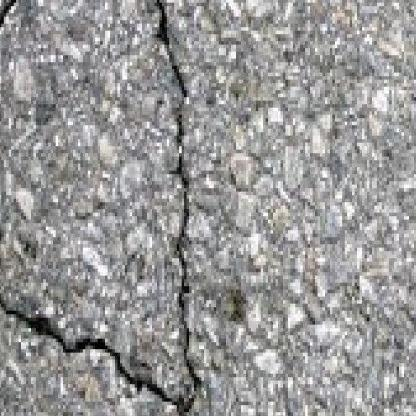Cracks: (0, 111, 208, 416), (151, 0, 192, 103), (0, 0, 59, 51)
